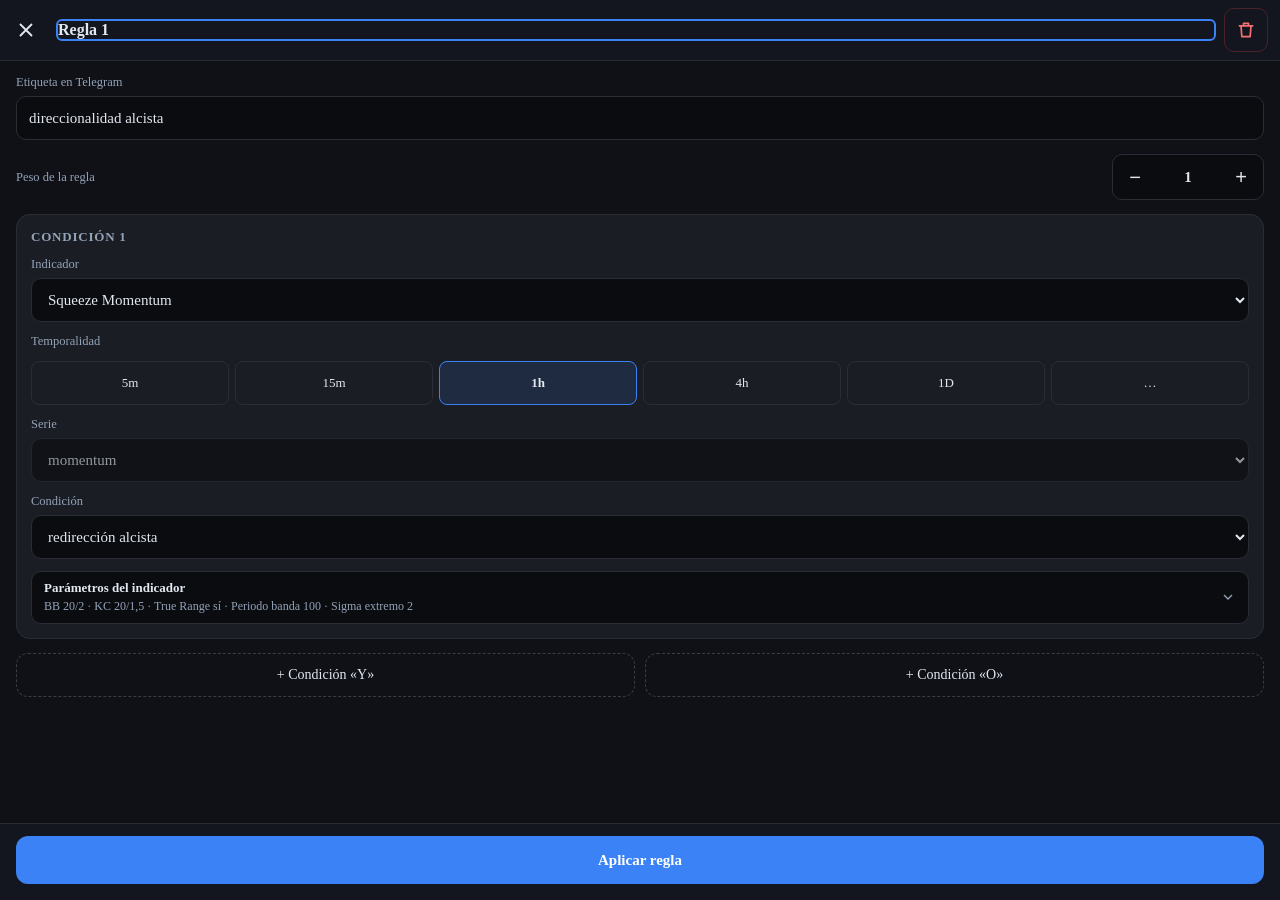
MobileRuleSheet › los parámetros empiezan plegados con un resumen y se despliegan
Check: the field labelled "BB periodo" is not shown
Click the button "Parámetros del indicador": x=115, y=588 [31, 571, 1249, 624]
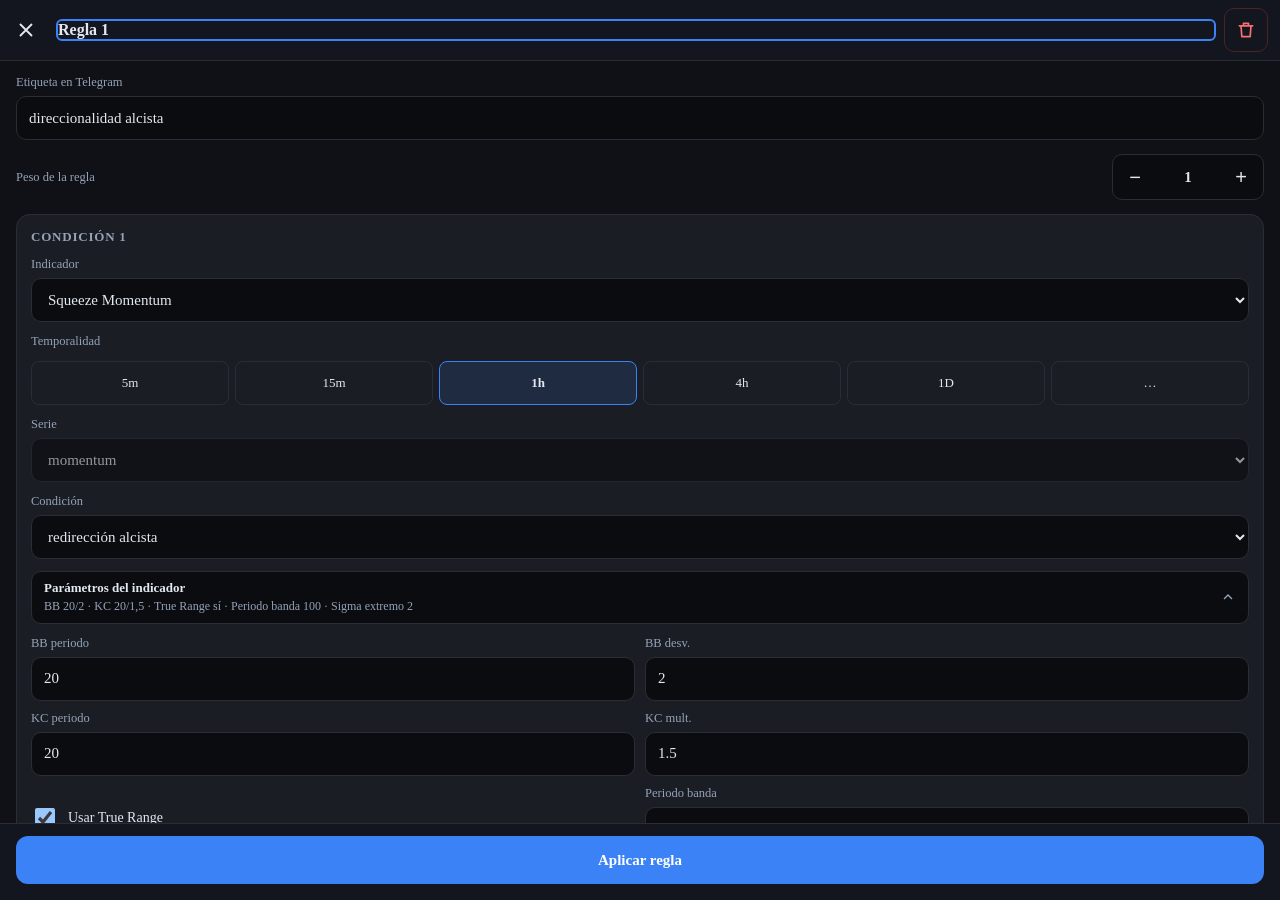
Check: the button "Parámetros del indicador" is expanded, box [31, 571, 1249, 624]
Check: the number field labelled "BB periodo" is shown, box [31, 657, 635, 701]
